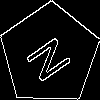N: (24, 29, 80, 85)
